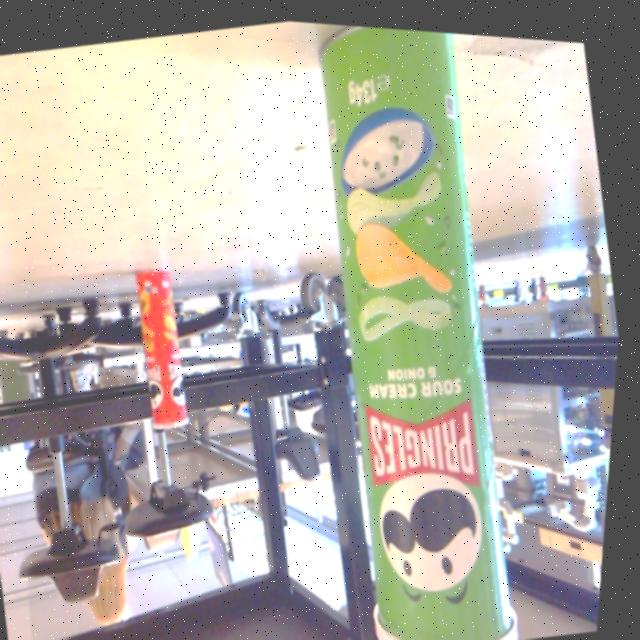greenpringles: (241, 16, 579, 640)
redpringles: (112, 250, 217, 438)
